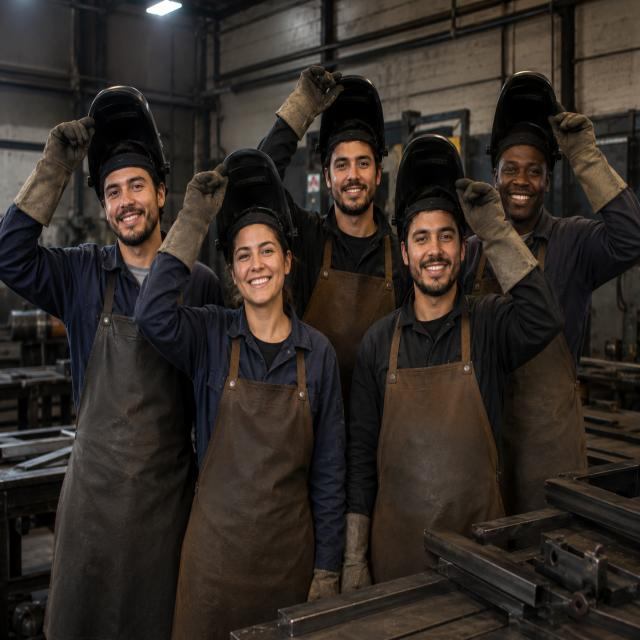helmet_lifted: (77, 81, 176, 255), (213, 152, 305, 306), (396, 133, 466, 298), (487, 68, 557, 227), (321, 70, 389, 226)
